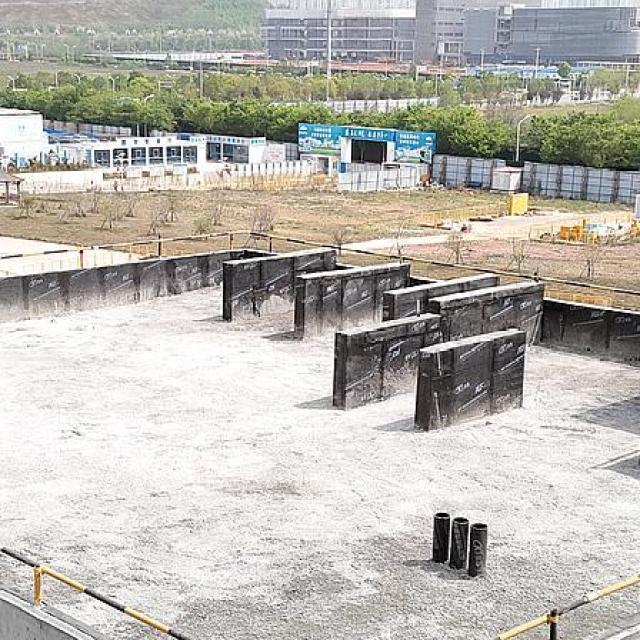edge_guardrail: (1, 230, 640, 300), (1, 543, 198, 640), (497, 572, 640, 638)
